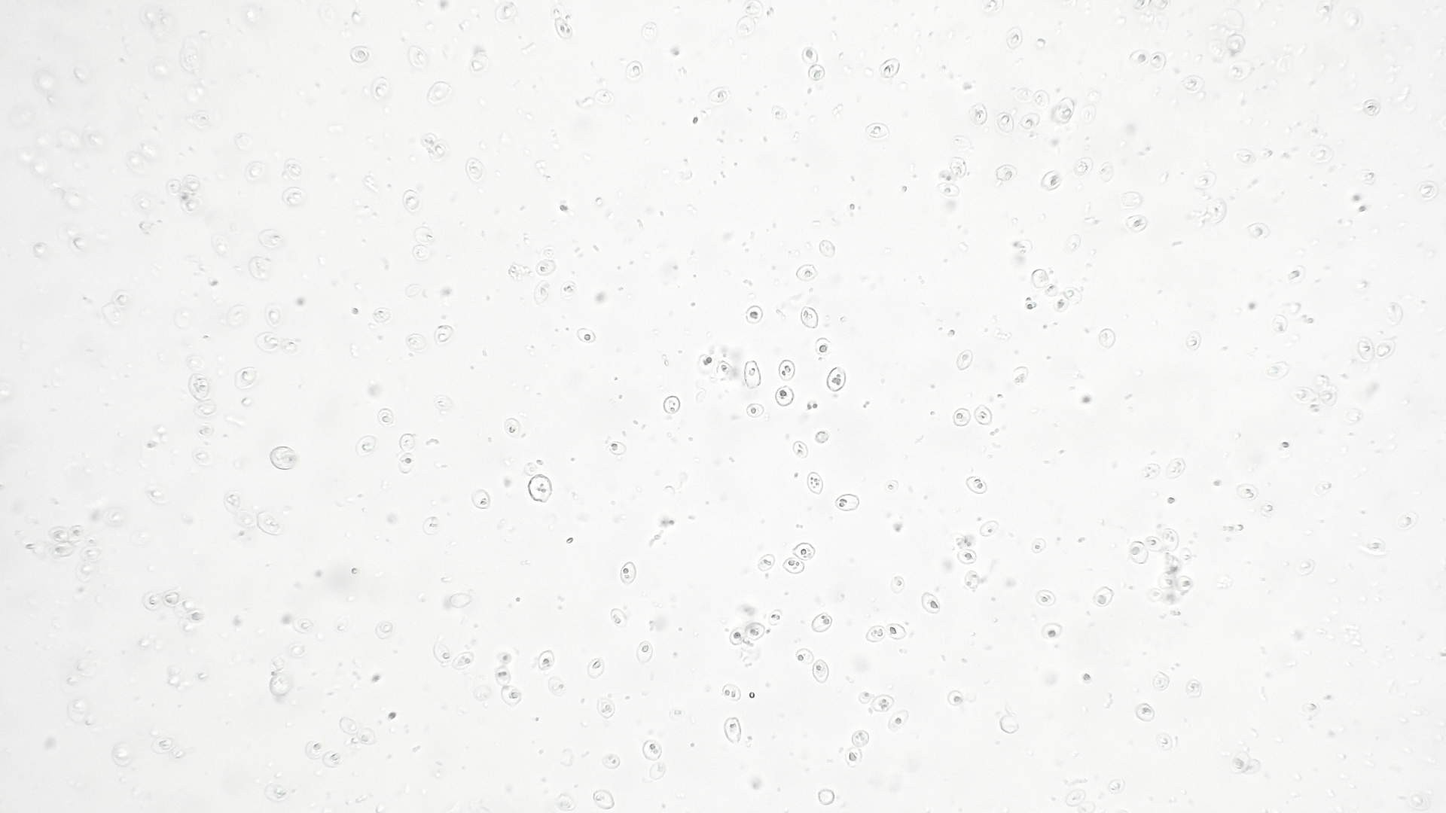yeast: (266, 443, 300, 473), (809, 610, 836, 639), (231, 364, 258, 393), (462, 157, 488, 187), (587, 788, 618, 813), (185, 371, 210, 402), (721, 716, 745, 748), (742, 358, 765, 391), (639, 740, 672, 763), (824, 365, 850, 393), (918, 589, 944, 617), (832, 492, 865, 514), (798, 304, 822, 333), (1036, 168, 1065, 192), (1030, 586, 1060, 609), (279, 185, 309, 208), (1259, 361, 1290, 383), (717, 682, 746, 705), (886, 708, 911, 734), (401, 188, 425, 215), (964, 101, 987, 129), (633, 640, 655, 669), (810, 656, 831, 686), (771, 385, 796, 410), (966, 473, 991, 498), (354, 434, 380, 458), (607, 605, 630, 632), (469, 486, 492, 513), (617, 559, 637, 590), (862, 121, 891, 142), (1355, 334, 1375, 364), (811, 336, 837, 359), (878, 56, 901, 82), (1127, 540, 1149, 567), (1244, 221, 1271, 243), (804, 470, 825, 498), (451, 649, 475, 673), (623, 59, 647, 83), (1164, 456, 1188, 480), (793, 262, 818, 285), (994, 110, 1017, 135), (501, 416, 524, 441), (791, 540, 817, 562), (552, 17, 578, 39), (263, 304, 285, 330), (972, 403, 993, 430), (1123, 214, 1150, 235), (1124, 48, 1151, 69), (869, 694, 897, 714), (1191, 172, 1219, 192), (1091, 585, 1114, 609), (1070, 156, 1093, 180), (1133, 700, 1156, 724), (884, 621, 909, 643), (1232, 483, 1258, 504), (780, 556, 807, 576), (1178, 75, 1205, 95), (1374, 338, 1396, 362), (705, 86, 734, 104), (538, 647, 557, 674), (303, 738, 322, 765), (777, 359, 799, 382), (743, 620, 765, 643), (500, 685, 523, 707), (752, 553, 776, 574), (862, 624, 886, 645), (348, 45, 372, 66), (1183, 678, 1204, 702), (993, 163, 1018, 183), (396, 452, 416, 477), (45, 525, 70, 545), (587, 656, 605, 683), (575, 325, 597, 347), (953, 349, 975, 371), (850, 726, 871, 749), (1293, 556, 1316, 577), (844, 745, 864, 769), (1359, 99, 1383, 119), (745, 303, 764, 328), (534, 259, 559, 278), (1005, 26, 1023, 52), (789, 439, 810, 461), (661, 394, 682, 416), (817, 239, 839, 260), (493, 665, 514, 687), (1140, 461, 1161, 483), (398, 433, 420, 453), (955, 547, 978, 566), (292, 616, 315, 635), (1039, 623, 1066, 639), (937, 181, 961, 199), (978, 519, 999, 539), (1019, 112, 1040, 132), (322, 751, 343, 771), (792, 647, 814, 666), (596, 698, 615, 720), (696, 354, 715, 376), (1162, 526, 1178, 552), (411, 245, 434, 263), (1104, 777, 1127, 795), (606, 440, 630, 457), (600, 754, 624, 771), (183, 611, 208, 627), (743, 400, 764, 419), (377, 407, 396, 428), (1184, 330, 1202, 352), (141, 592, 163, 610), (371, 307, 394, 324), (952, 407, 972, 426), (799, 47, 819, 66), (888, 572, 906, 593), (1149, 53, 1167, 74), (557, 281, 580, 297), (1144, 535, 1164, 553), (1030, 537, 1047, 558), (947, 688, 964, 709), (807, 65, 826, 83), (1144, 587, 1163, 604), (728, 626, 745, 644), (813, 429, 831, 446), (1053, 295, 1071, 312), (1177, 574, 1192, 594), (768, 607, 782, 627), (495, 651, 514, 664), (883, 479, 899, 493)
